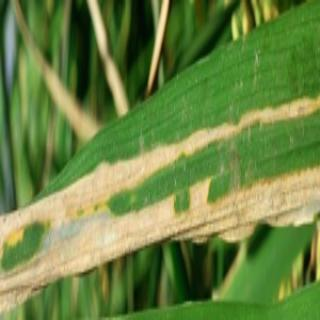Hawar-Daun: (0, 192, 91, 306), (156, 136, 244, 245), (72, 161, 168, 260), (214, 167, 320, 243), (243, 91, 317, 129), (196, 116, 244, 150)
